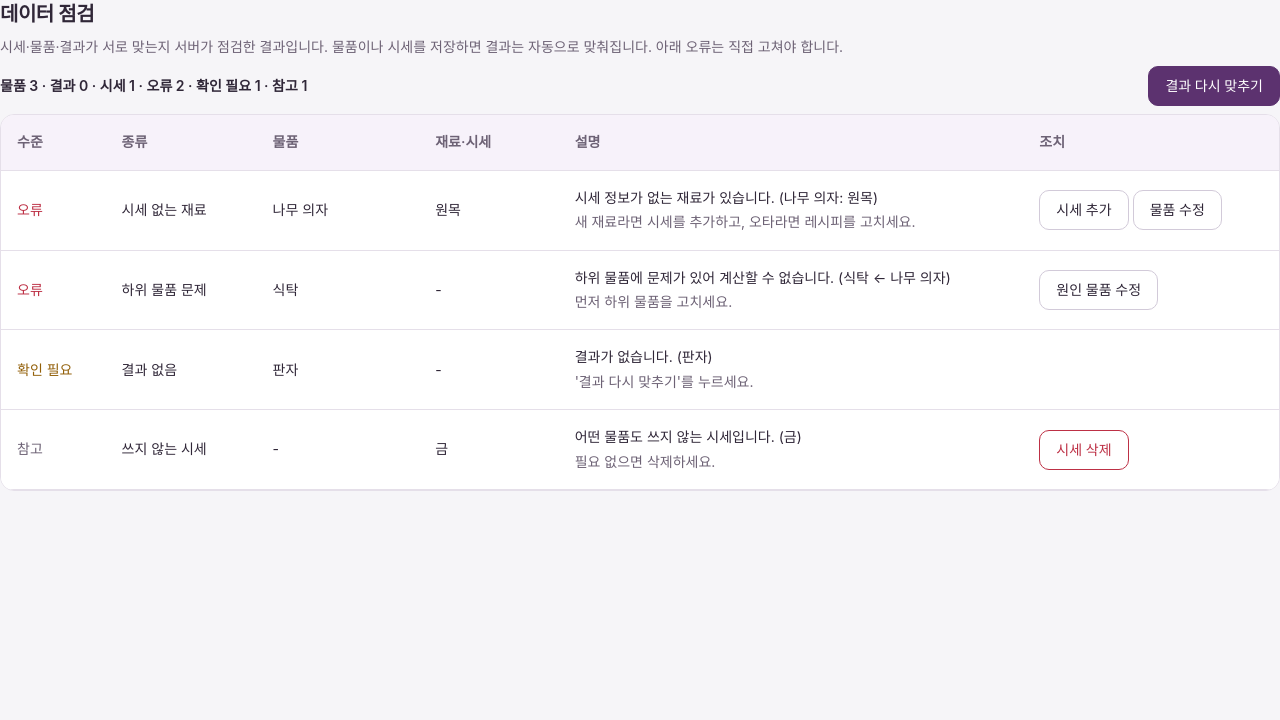
Scenario: CatalogCheckPage › 쓰지 않는 시세는 확인 뒤 삭제한다
Expected: the text "어떤 물품도 쓰지 않는 시세입니다. (금)" is shown, left=575, top=428, right=802, bottom=445
Click the button "시세 삭제": coordinates (1084, 450) left=1039, top=430, right=1129, bottom=470
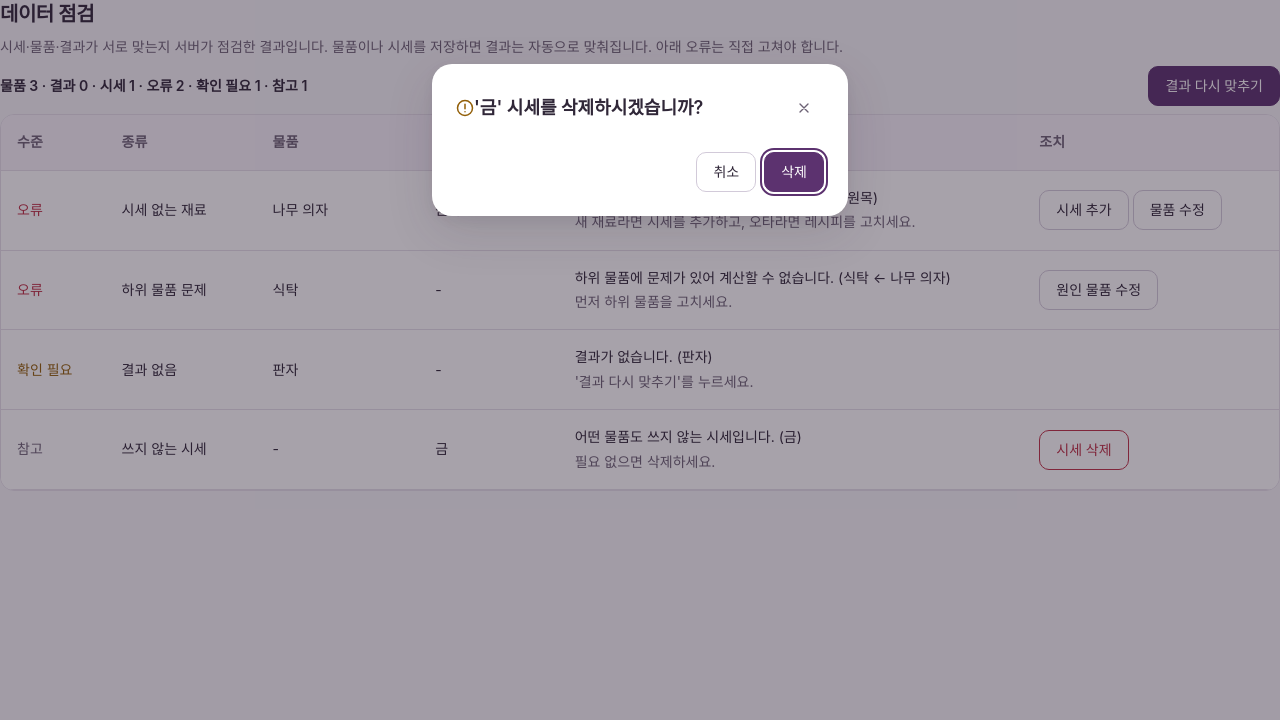
Click the button "삭제": coordinates (794, 172) left=764, top=152, right=824, bottom=192
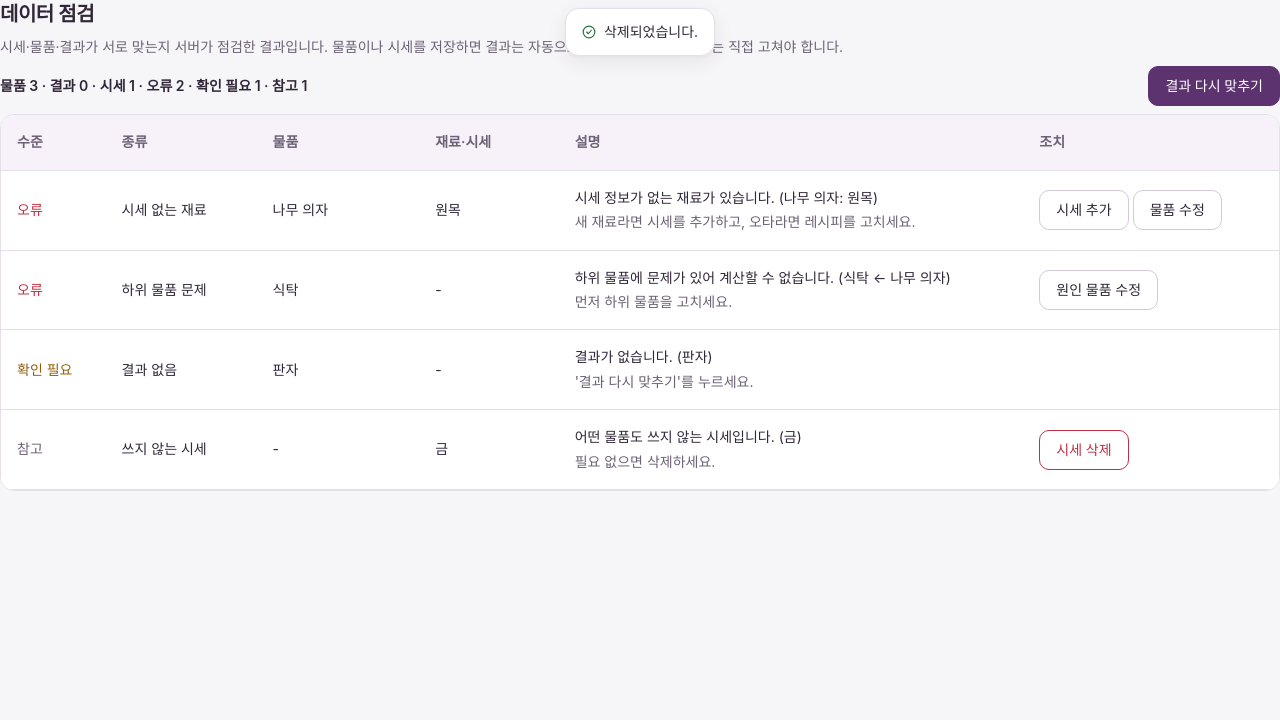
Result: the text "삭제되었습니다." is shown at left=604, top=21, right=698, bottom=43
